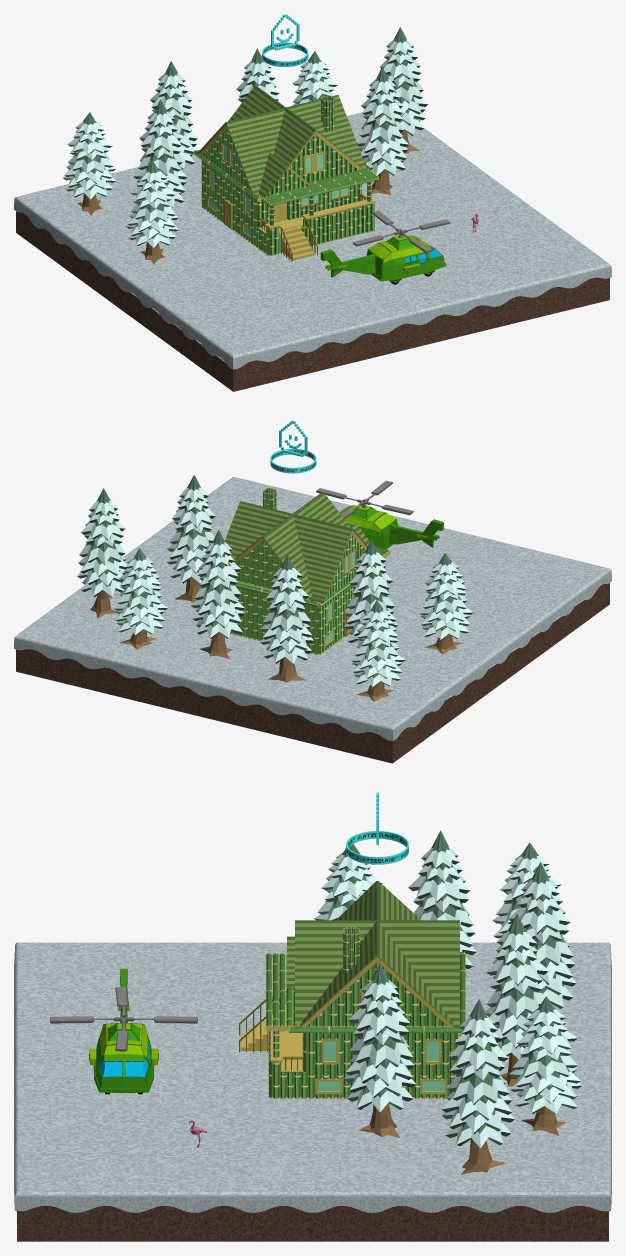
3 views of the same model, one above another, from view 1: azimuth 30°, elevation 25°; view 2: azimuth 150°, elevation 25°; view 3: azimuth 270°, elevation 25° (orthographic). The views are drawn at different scales.
Parts seen in each view (by area): view 1: Cube.003, Cube.1327, VEHICLES_HELICOPTER, TYPE_PREMIUM; view 2: Cube.003, Cube.1327, VEHICLES_HELICOPTER, TYPE_PREMIUM; view 3: Cube.003, Cube.1327, VEHICLES_HELICOPTER, TYPE_PREMIUM.
Part boxes in pixels (x1,y1,x2,y2): Cube.003: [14, 27, 611, 391]; Cube.1327: [193, 85, 378, 261]; VEHICLES_HELICOPTER: [320, 210, 450, 284]; TYPE_PREMIUM: [262, 14, 308, 66]; Cube.003: [14, 475, 611, 763]; Cube.1327: [225, 488, 390, 654]; VEHICLES_HELICOPTER: [316, 480, 443, 549]; TYPE_PREMIUM: [270, 420, 316, 473]; Cube.003: [14, 830, 611, 1241]; Cube.1327: [239, 881, 466, 1099]; VEHICLES_HELICOPTER: [50, 968, 197, 1094]; TYPE_PREMIUM: [346, 792, 408, 864].
Bounding box in the file's own units: 4040 × 2440 × 4040.
28 materials, 5 textured.
